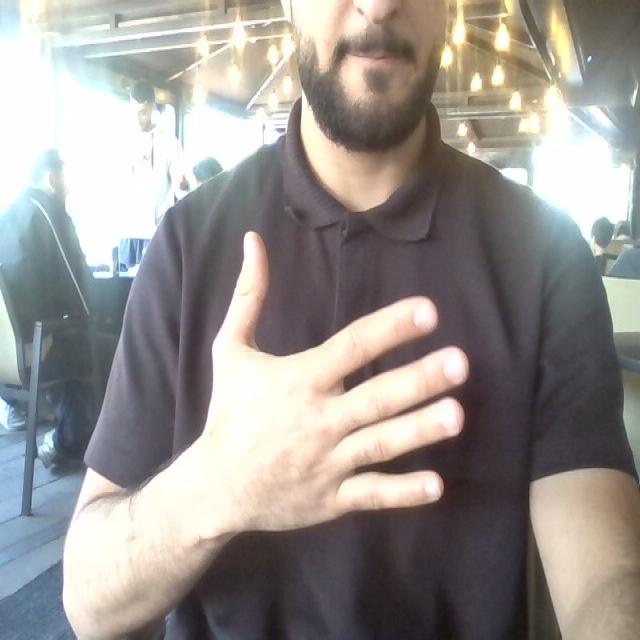Hand: (196, 234, 467, 530)
